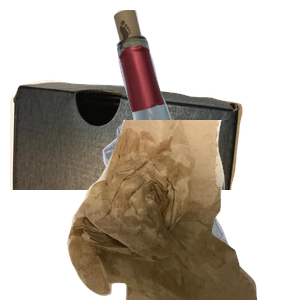cardboard: (10, 77, 245, 257)
glass: (89, 10, 300, 190)
plastic: (55, 120, 284, 300)
trash: (65, 120, 300, 300)
